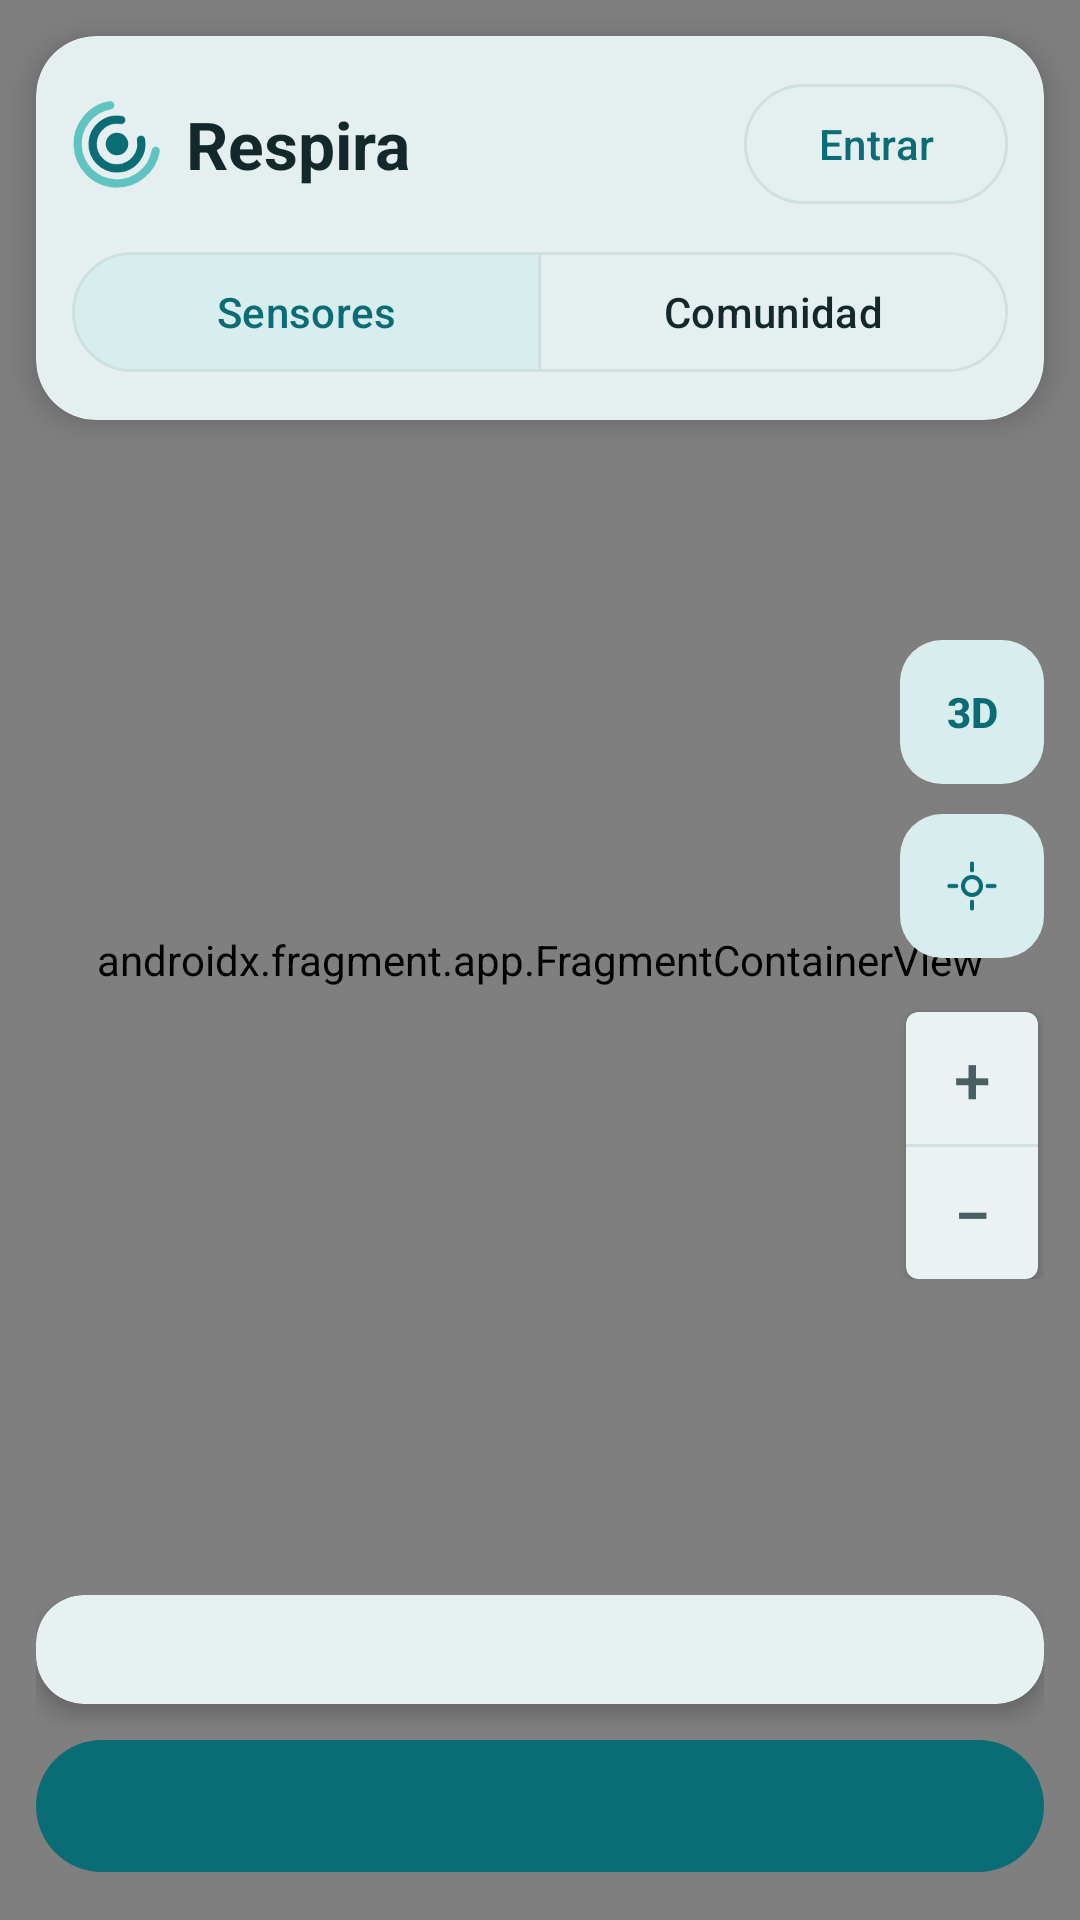

Point at icon controls on the screen. Image size 1080w x 1920h, points as [x,y].
Mi ubicación: [972,886]
